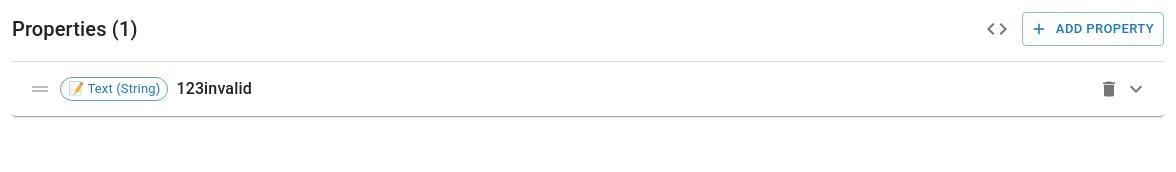
Test case: PropertySchemaBuilder › validates property names
The image size is (1176, 172).
Note: Enable validation display
Click the button named "toggle validation display". click: (997, 29)
box: [980,12,1014,46]
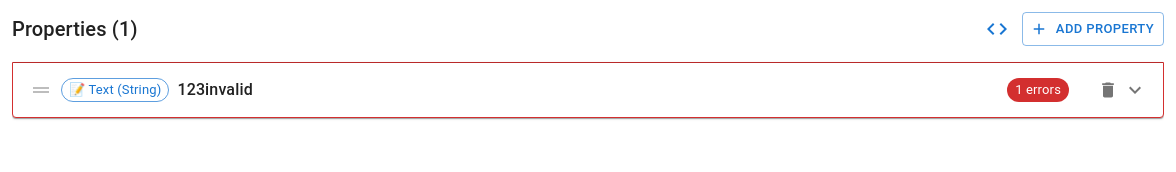
Expected: the text "1 errors" is shown, [1015,82,1061,97]
